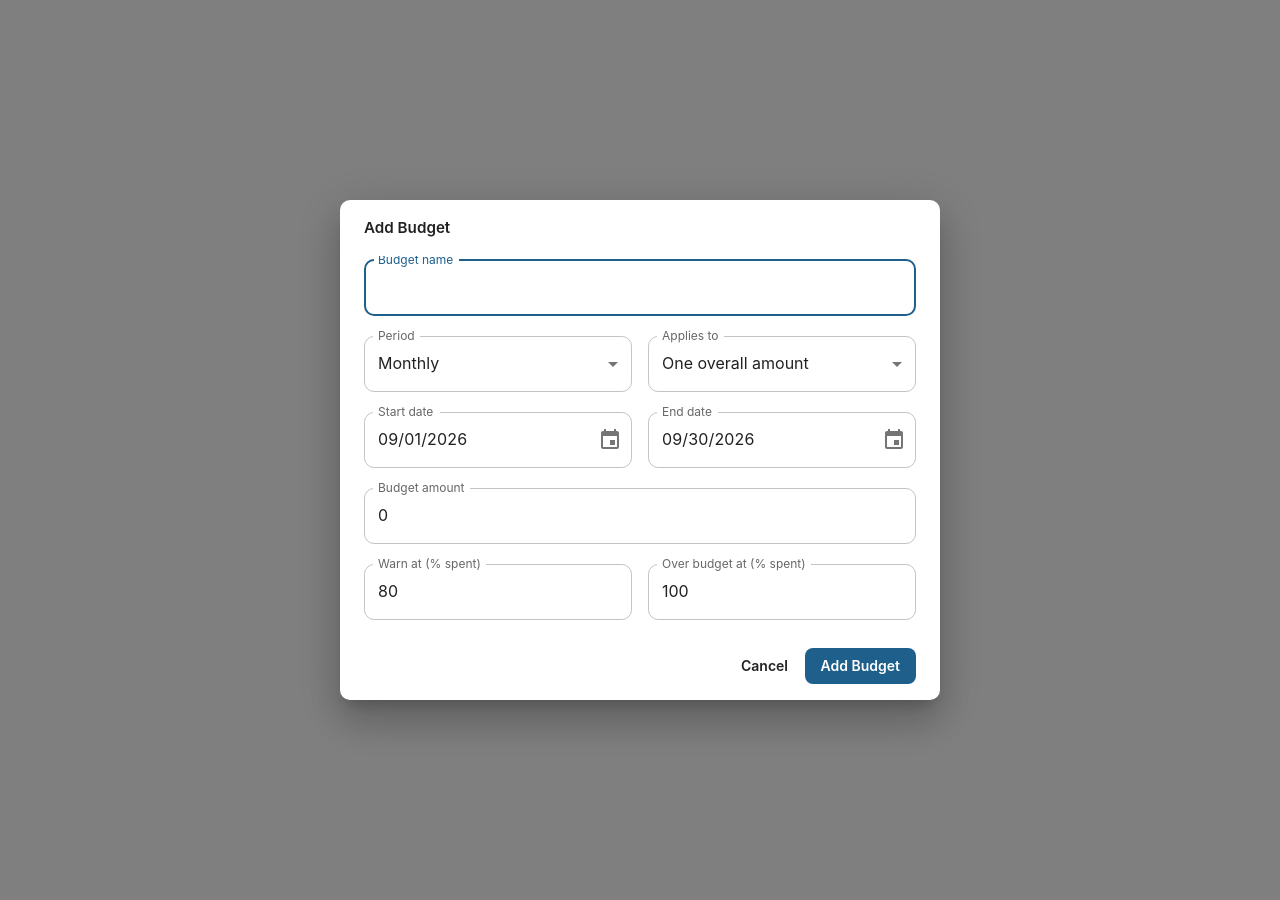
Scenario: BudgetFormDialog › shows the error message returned by a failed submit
Type "Monthly essentials" into the field labelled "Budget name" at (640, 288), box [364,260,916,316]
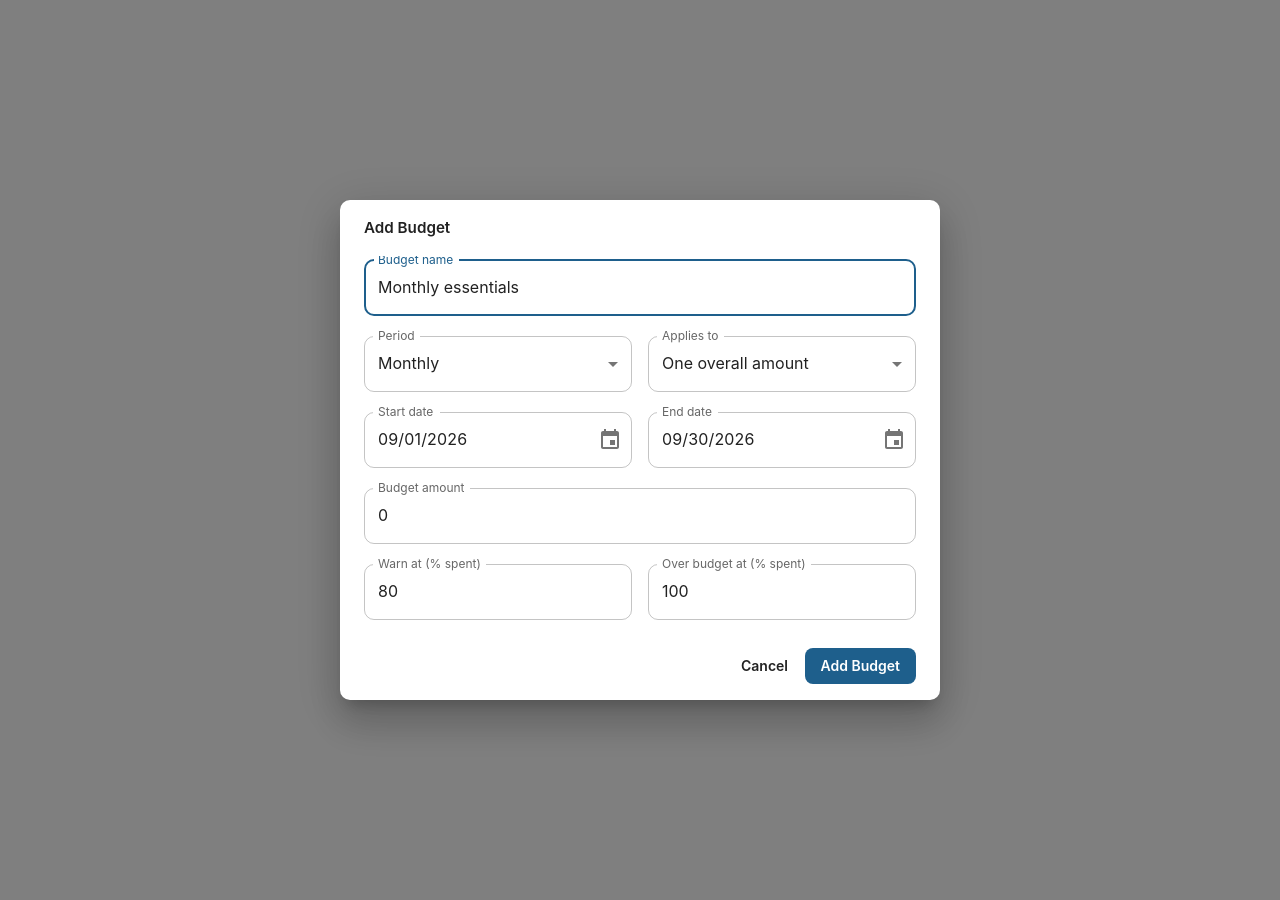
Replace the text in the number field labelled "Budget amount" with "20000" at (640, 516), box [364,488,916,544]
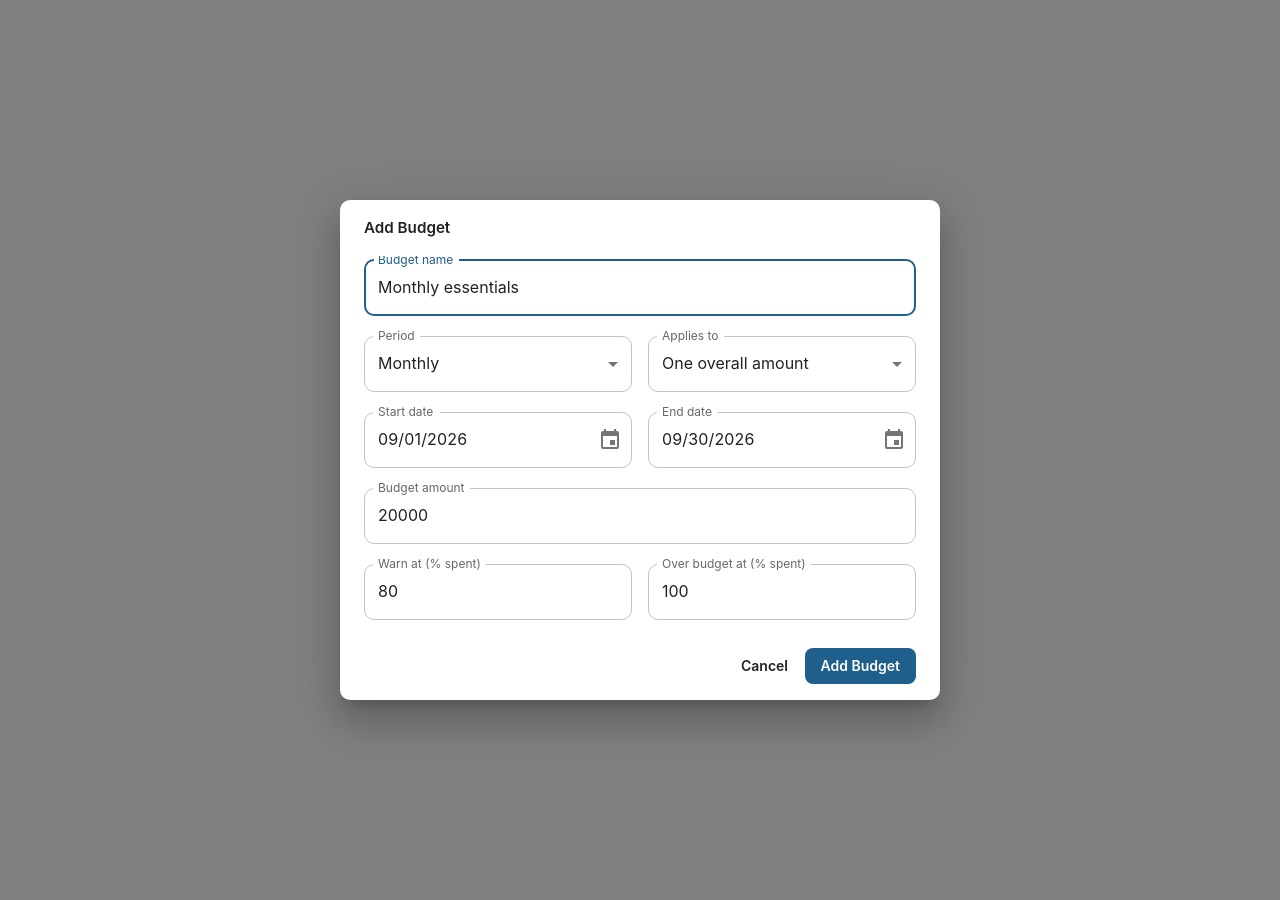
Click the button "Add Budget" at (860, 666), box [804,648,916,684]
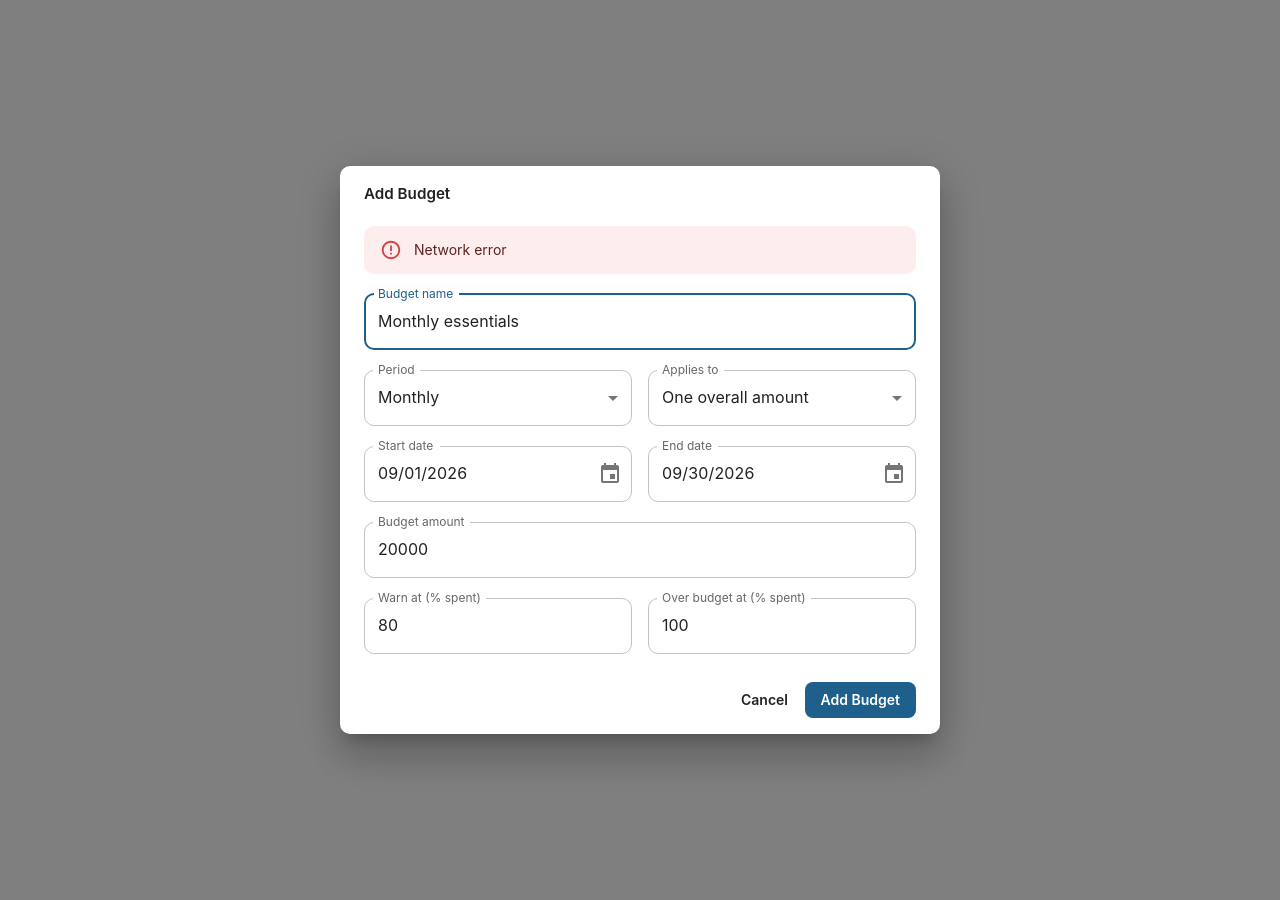
Result: the text "Network error" is shown at [414,241,507,258]
